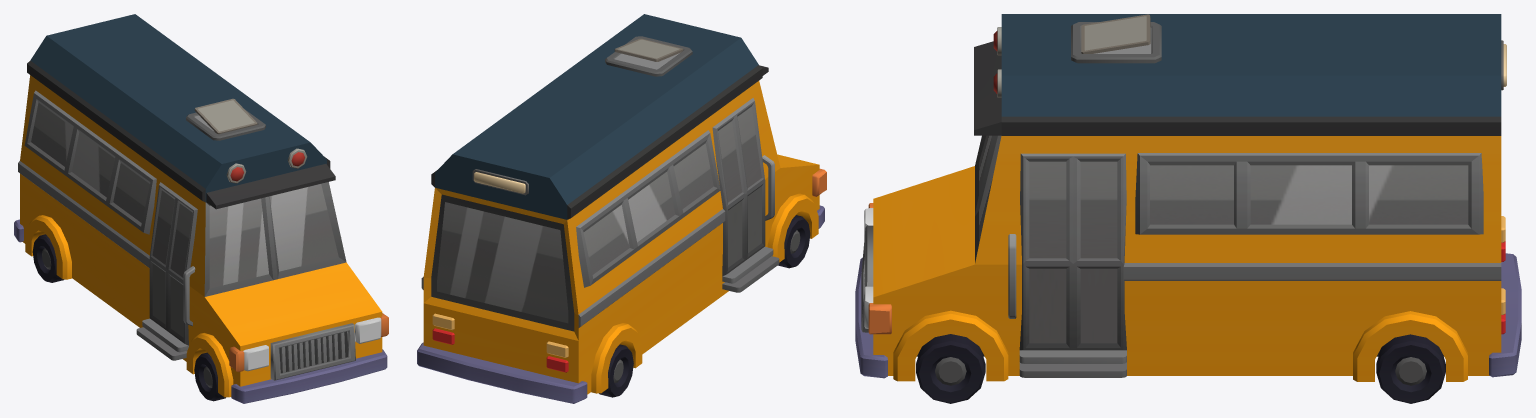
Rendered from Bus_1.fbx.
3 renders of one model, left to right at view 1: azimuth 30°, elevation 25°; view 2: azimuth 150°, elevation 25°; view 3: azimuth 270°, elevation 25°, orthographic. The views are drawn at different scales.
Parts seen in each view (by area): view 1: Bus_1, Whel_BR, Whel_FR; view 2: Bus_1, Whel_FR, Whel_BR; view 3: Bus_1, Whel_FL, Whel_BL.
Part boxes in pixels (left/top/right/bottom): Bus_1: left=14, top=14, right=388, bottom=403; Whel_BR: left=32, top=234, right=64, bottom=282; Whel_FR: left=194, top=352, right=225, bottom=401; Bus_1: left=417, top=14, right=826, bottom=403; Whel_FR: left=778, top=215, right=810, bottom=268; Whel_BR: left=599, top=344, right=633, bottom=397; Bus_1: left=855, top=14, right=1521, bottom=381; Whel_FL: left=916, top=334, right=985, bottom=403; Whel_BL: left=1376, top=334, right=1445, bottom=403.
Bounding box in the file's own units: 1.43 × 1.78 × 3.33.
